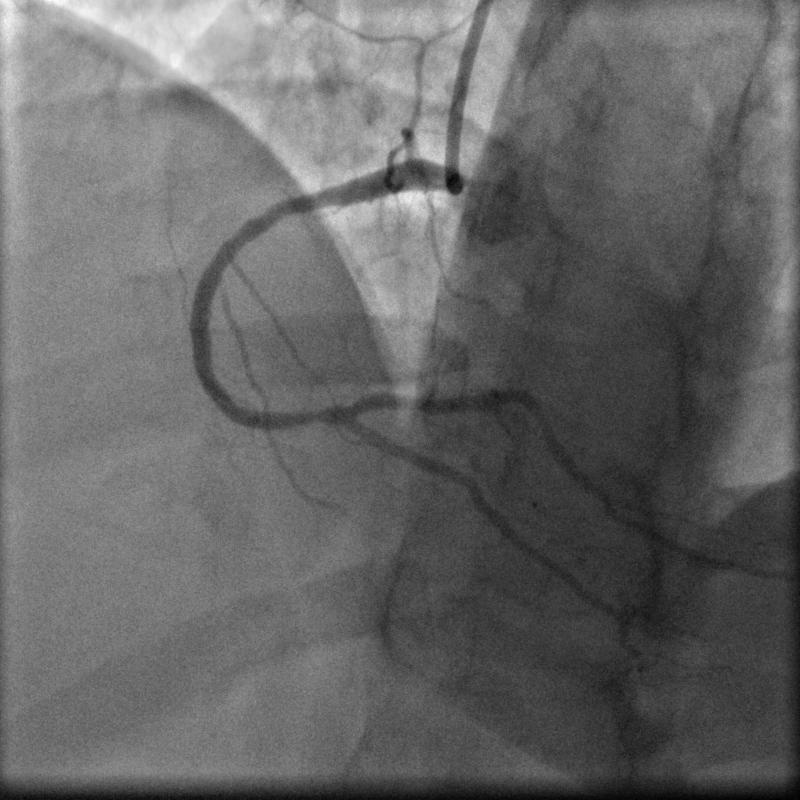Stenosis: (294, 403, 333, 424)
